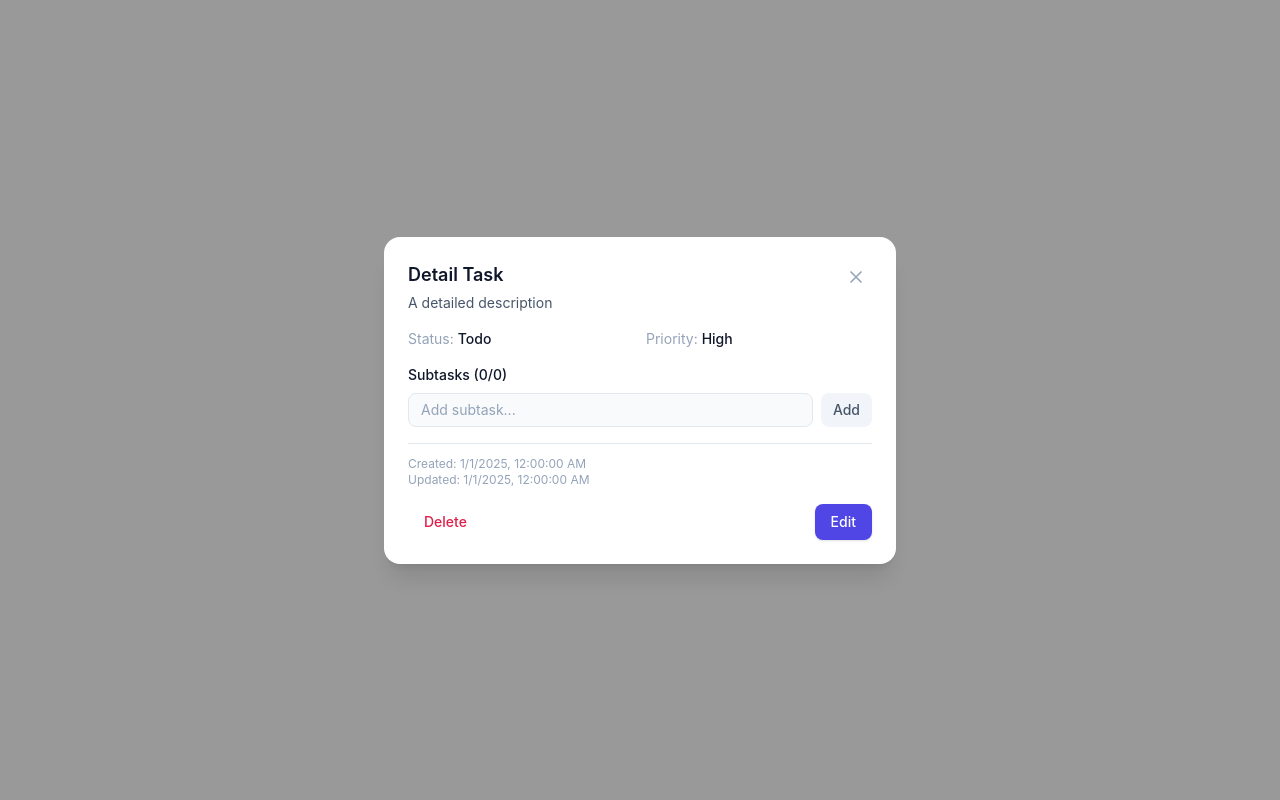
Test: TaskDetail › opens edit form when Edit button is clicked
Click the button "Edit": x=843, y=522 [815,504,872,540]
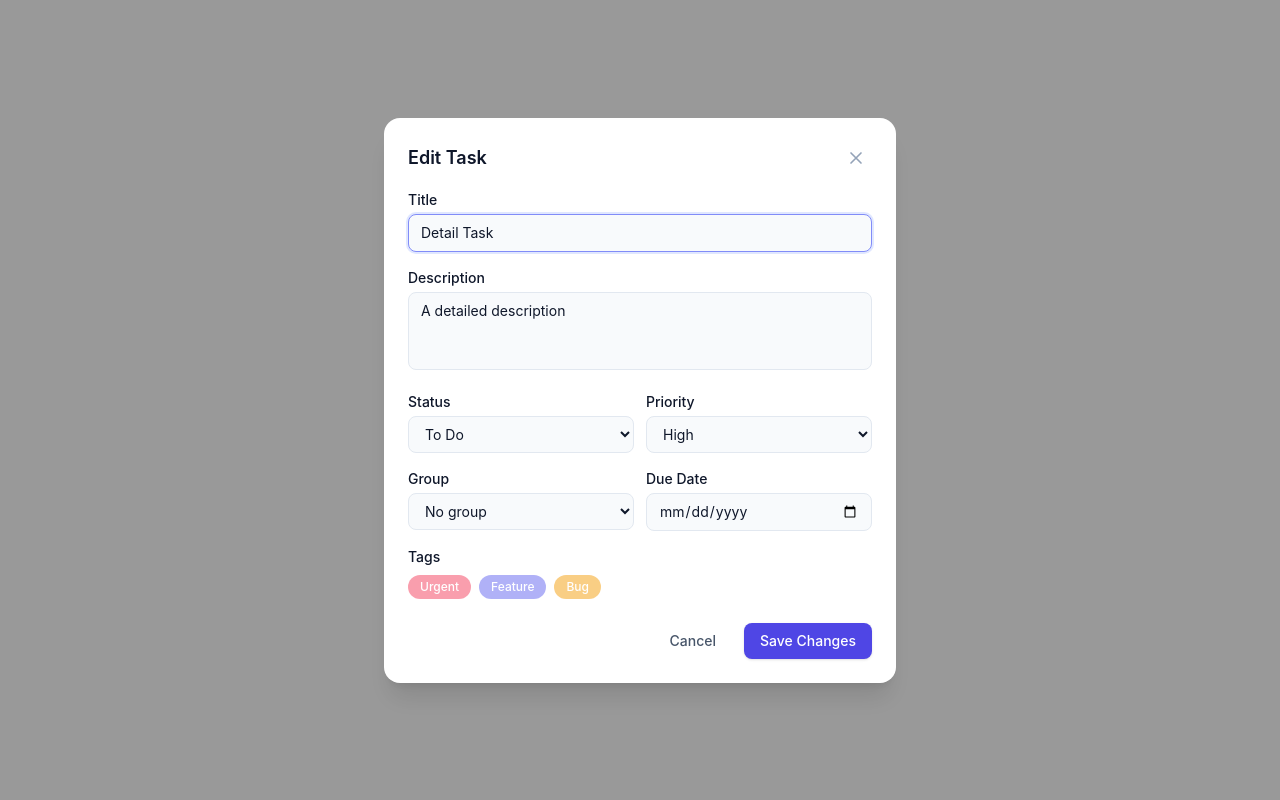
Expected: the heading "Edit Task" is shown, [408,144,487,172]
Expected: the field showing "Detail Task" is shown, [408,214,872,252]
